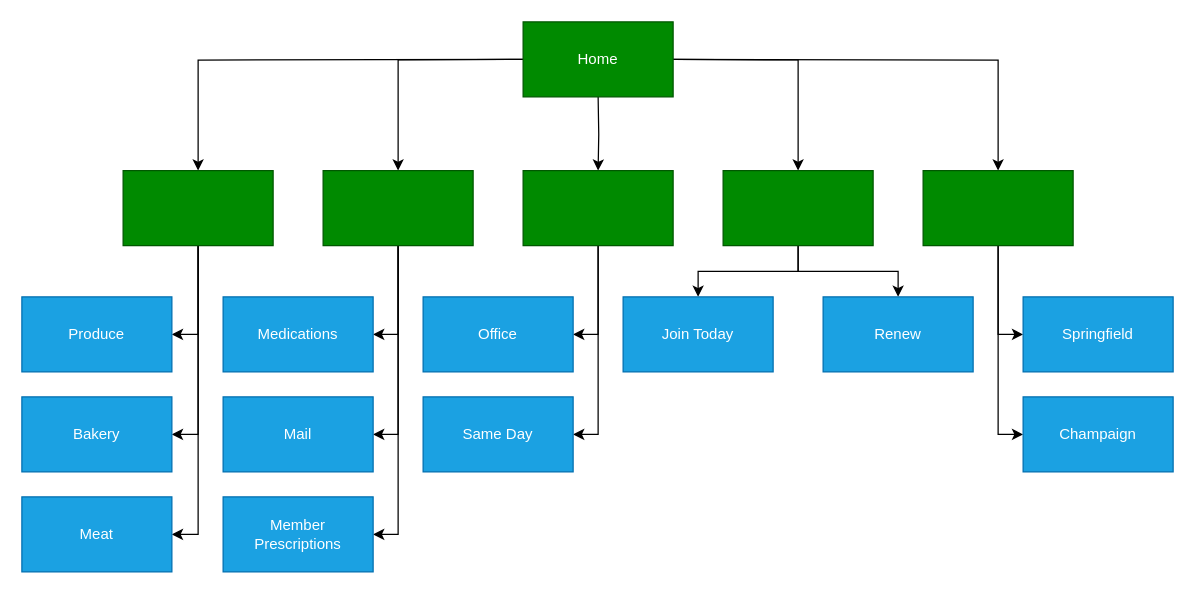
The diagram is 1195 pixels wide and 594 high, and some of its shapes have lost their labels. Each missing label, with the box of its shape:
Delivery: (522, 169, 673, 246)
Groceries: (122, 169, 273, 246)
Locations: (922, 169, 1073, 246)
Membership: (722, 169, 873, 246)
Pharmacy: (322, 169, 473, 246)
